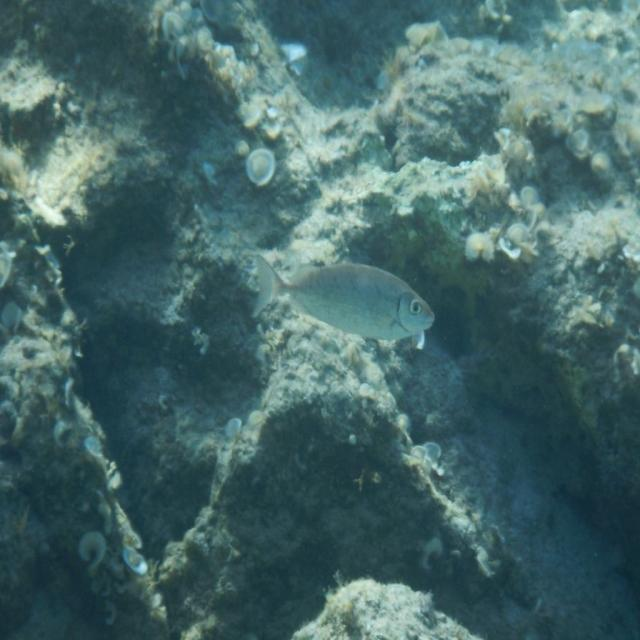Sokar Baligi: (233, 231, 446, 365)
